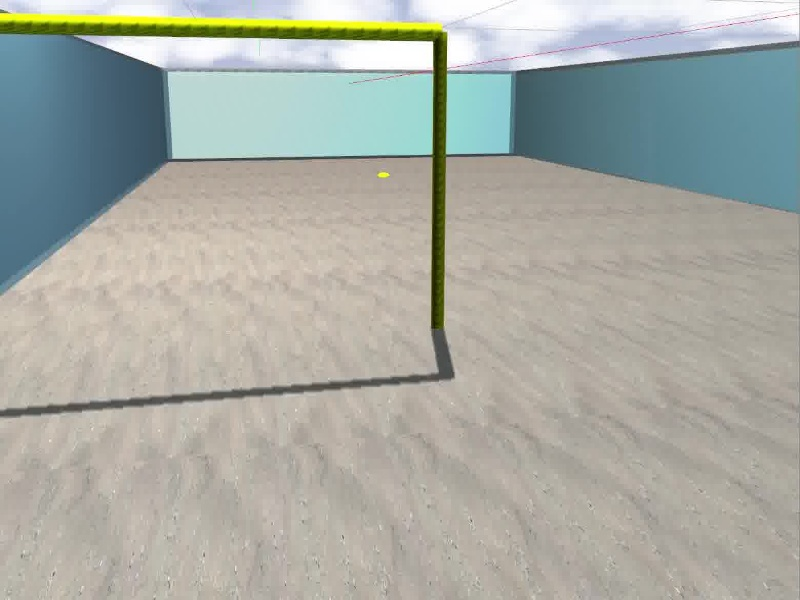gate: (1, 13, 448, 330)
